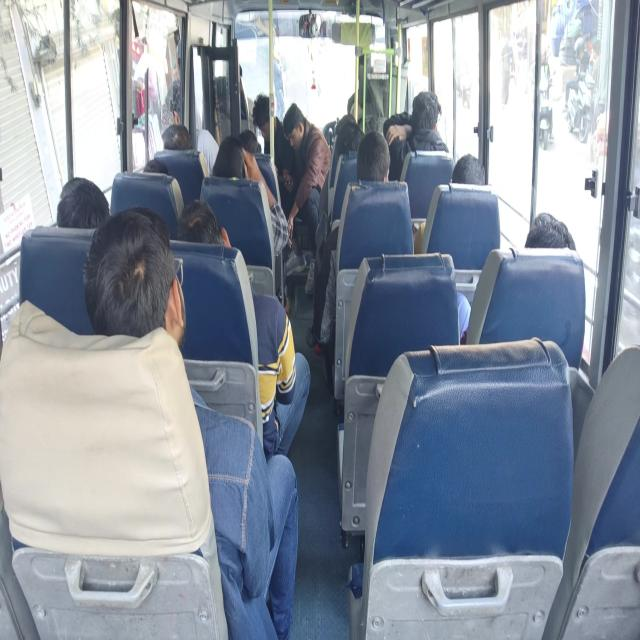person: (99, 248, 177, 340), (170, 200, 226, 251), (56, 160, 100, 220), (213, 136, 256, 190), (355, 34, 385, 96), (525, 215, 565, 255), (454, 146, 494, 186), (287, 94, 311, 160), (360, 136, 392, 184), (412, 94, 442, 144), (162, 118, 192, 164), (136, 147, 170, 185), (340, 106, 363, 159), (250, 76, 272, 128), (167, 80, 193, 118), (236, 124, 264, 154)
